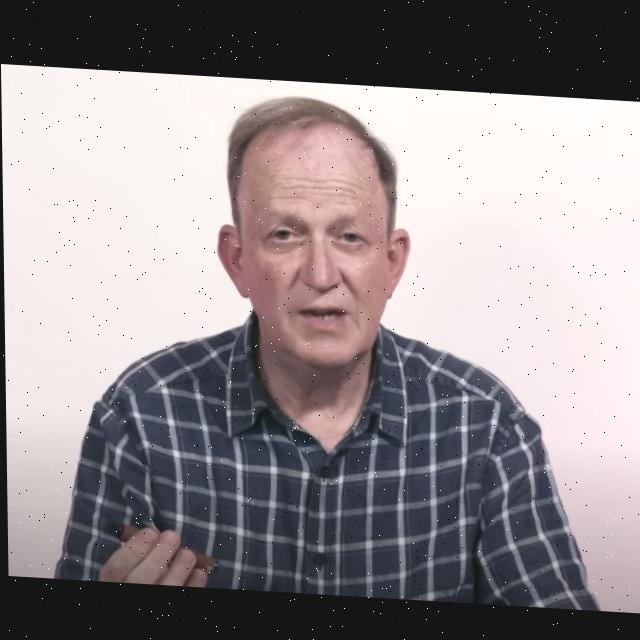vape: (105, 520, 218, 574)
